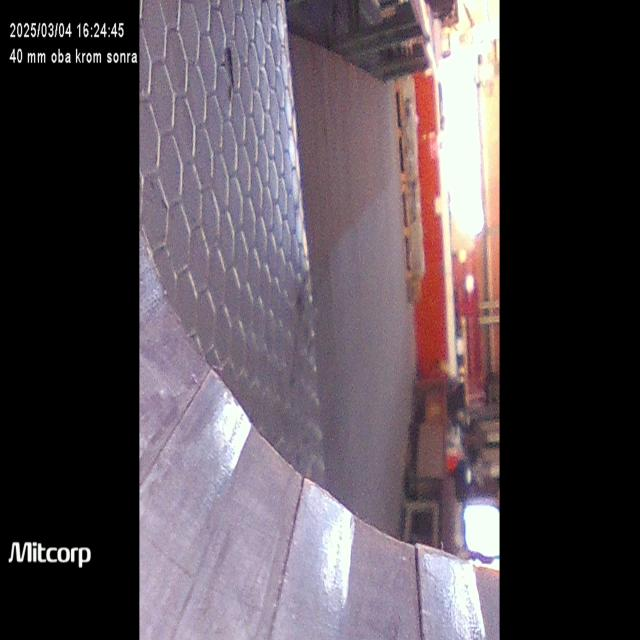hata_8.1: (150, 523, 299, 633)
